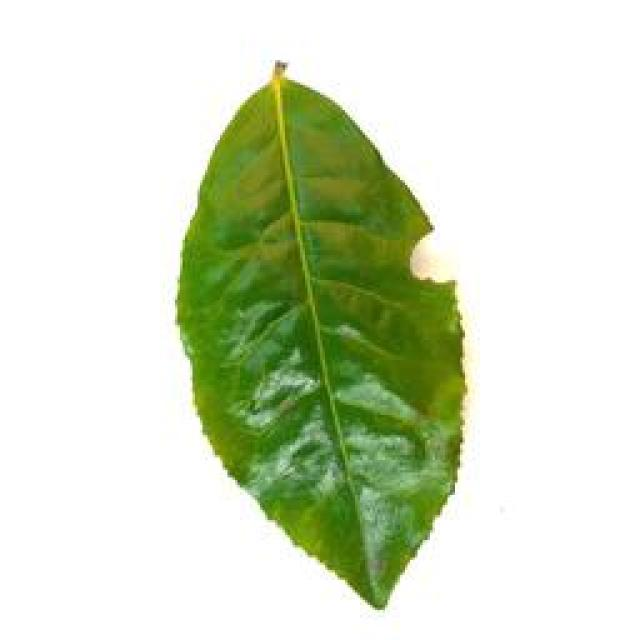Healthy: (170, 51, 473, 614)
